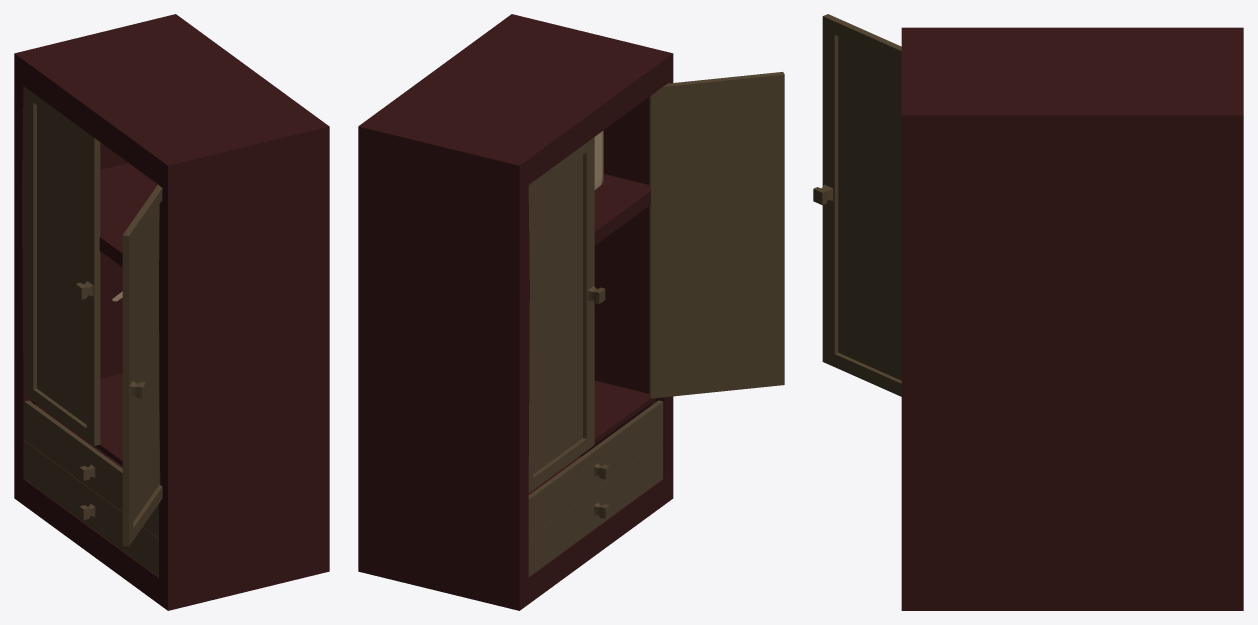
File: closet.fbx
3 views of the same model, side by side, from view 1: azimuth 30°, elevation 25°; view 2: azimuth 150°, elevation 25°; view 3: azimuth 270°, elevation 25° (orthographic). The views are drawn at different scales.
Parts seen in each view (by area): view 1: polySurface9, polySurface2, polySurface3, polySurface7, polySurface6; view 2: polySurface9, polySurface3, polySurface2, polySurface6, polySurface7; view 3: polySurface9, polySurface3.
Boxes of the visible parts, box(x1,y1,x2,y2) form: polySurface9: box(14, 14, 329, 610); polySurface2: box(26, 88, 100, 445); polySurface3: box(122, 184, 162, 546); polySurface7: box(24, 441, 158, 576); polySurface6: box(24, 400, 158, 538); polySurface9: box(358, 14, 673, 610); polySurface3: box(649, 72, 784, 398); polySurface2: box(528, 137, 605, 492); polySurface6: box(528, 400, 663, 538); polySurface7: box(528, 441, 663, 576); polySurface9: box(901, 27, 1243, 610); polySurface3: box(813, 14, 901, 396).
Size of the model in its own units: 6.45 by 11.43 by 9.
